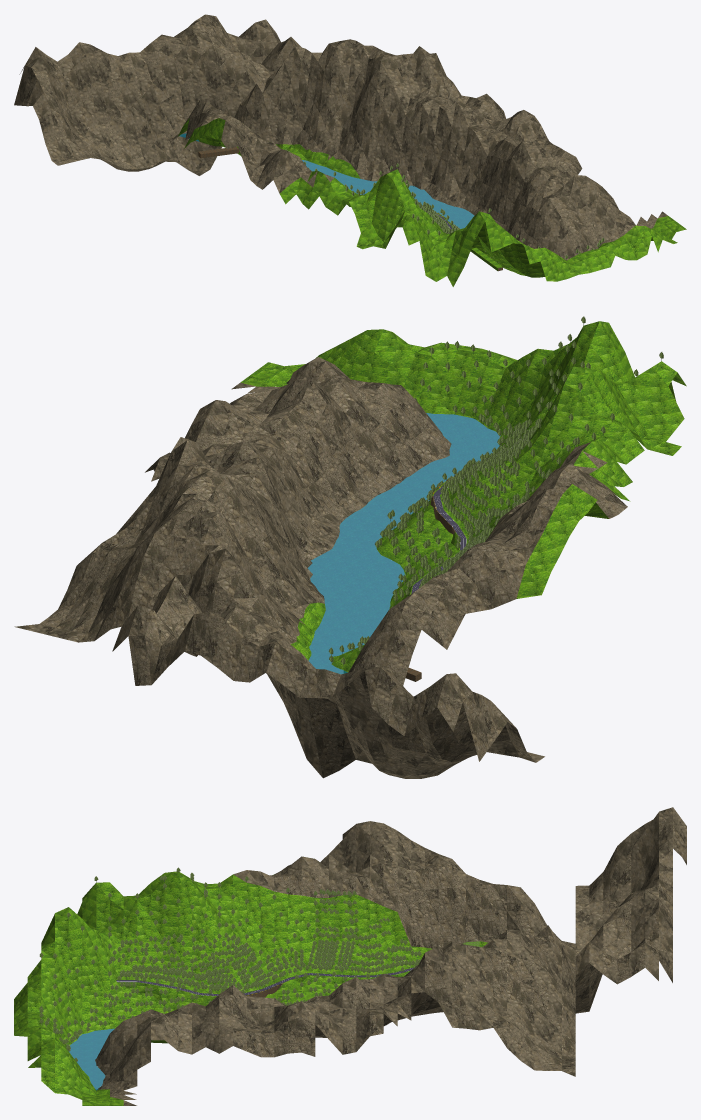
The model's file is compressed_1763714392233_mountain_road_scene.glb.
The picture shows the model from 3 angles, top to bottom: view 1: azimuth 30°, elevation 25°; view 2: azimuth 150°, elevation 25°; view 3: azimuth 270°, elevation 25°; orthographic projection. The views are drawn at different scales.
Visible parts, largest first — view 1: Material2 (×4); view 2: Material2 (×4); view 3: Material2 (×5).
Boxes of the visible parts, x1,y1,x2,y2 form: Material2 (×4): [14, 14, 686, 286]; Material2 (×4): [14, 316, 686, 778]; Material2 (×5): [14, 807, 686, 1105].
Bounding box in the file's own units: 9.12 × 3 × 11.79.
18 materials, 8 textured.
